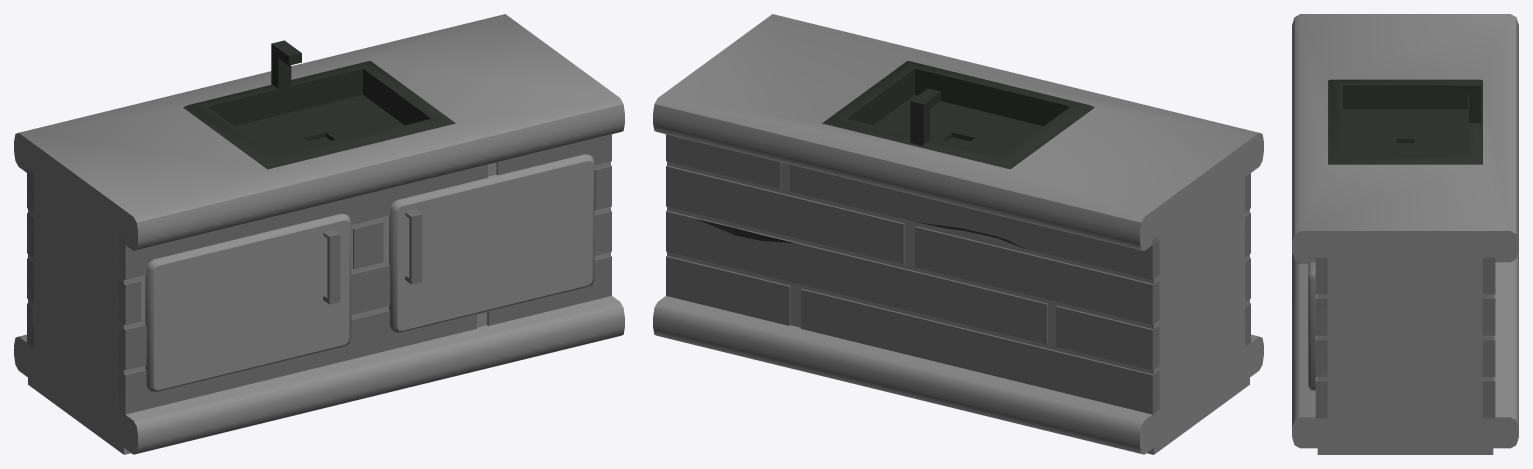
File: space_counter_sink.glb
3 renders of one model, left to right at view 1: azimuth 30°, elevation 25°; view 2: azimuth 150°, elevation 25°; view 3: azimuth 270°, elevation 25°, orthographic. The views are drawn at different scales.
Parts seen in each view (by area): view 1: Environment_Counter_Sink; view 2: Environment_Counter_Sink; view 3: Environment_Counter_Sink.
Part boxes in pixels (x1=…): Environment_Counter_Sink: x1=14, y1=14, x2=624, y2=454; Environment_Counter_Sink: x1=653, y1=14, x2=1263, y2=454; Environment_Counter_Sink: x1=1292, y1=14, x2=1518, y2=454.
Bounding box in the file's own units: 4 × 2.26 × 1.77.
1 material, 1 textured.
